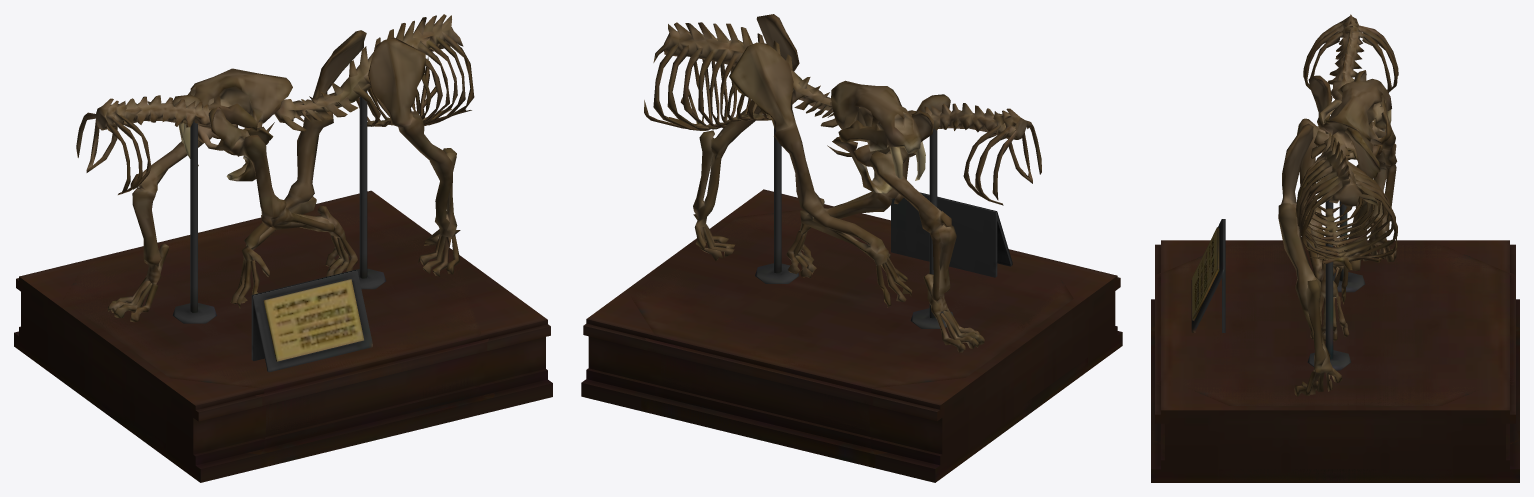
Rendered from fossil-sabertooth.glb.
3 views of the same model, side by side, from view 1: azimuth 30°, elevation 25°; view 2: azimuth 150°, elevation 25°; view 3: azimuth 270°, elevation 25° (orthographic).
Visible parts, largest first — view 1: mFossilBaseEnd (×2), mFtrFossilSmilodonA, mFtrFossilSmilodonB; view 2: mFossilBaseEnd (×2), mFtrFossilSmilodonA, mFtrFossilSmilodonB; view 3: mFossilBaseEnd (×2), mFtrFossilSmilodonA, mFtrFossilSmilodonB.
Boxes of the visible parts, <box> form: mFossilBaseEnd (×2): <box>14,91,552,482</box>; mFtrFossilSmilodonA: <box>178,14,474,308</box>; mFtrFossilSmilodonB: <box>76,94,357,322</box>; mFossilBaseEnd (×2): <box>581,127,1122,482</box>; mFtrFossilSmilodonA: <box>644,14,925,307</box>; mFtrFossilSmilodonB: <box>786,94,1041,352</box>; mFossilBaseEnd (×2): <box>1151,199,1519,482</box>; mFtrFossilSmilodonA: <box>1278,78,1397,396</box>; mFtrFossilSmilodonB: <box>1297,14,1398,341</box>.
Size of the model in its own units: 20.02 by 17.41 by 18.33.
4 materials, 4 textured.
